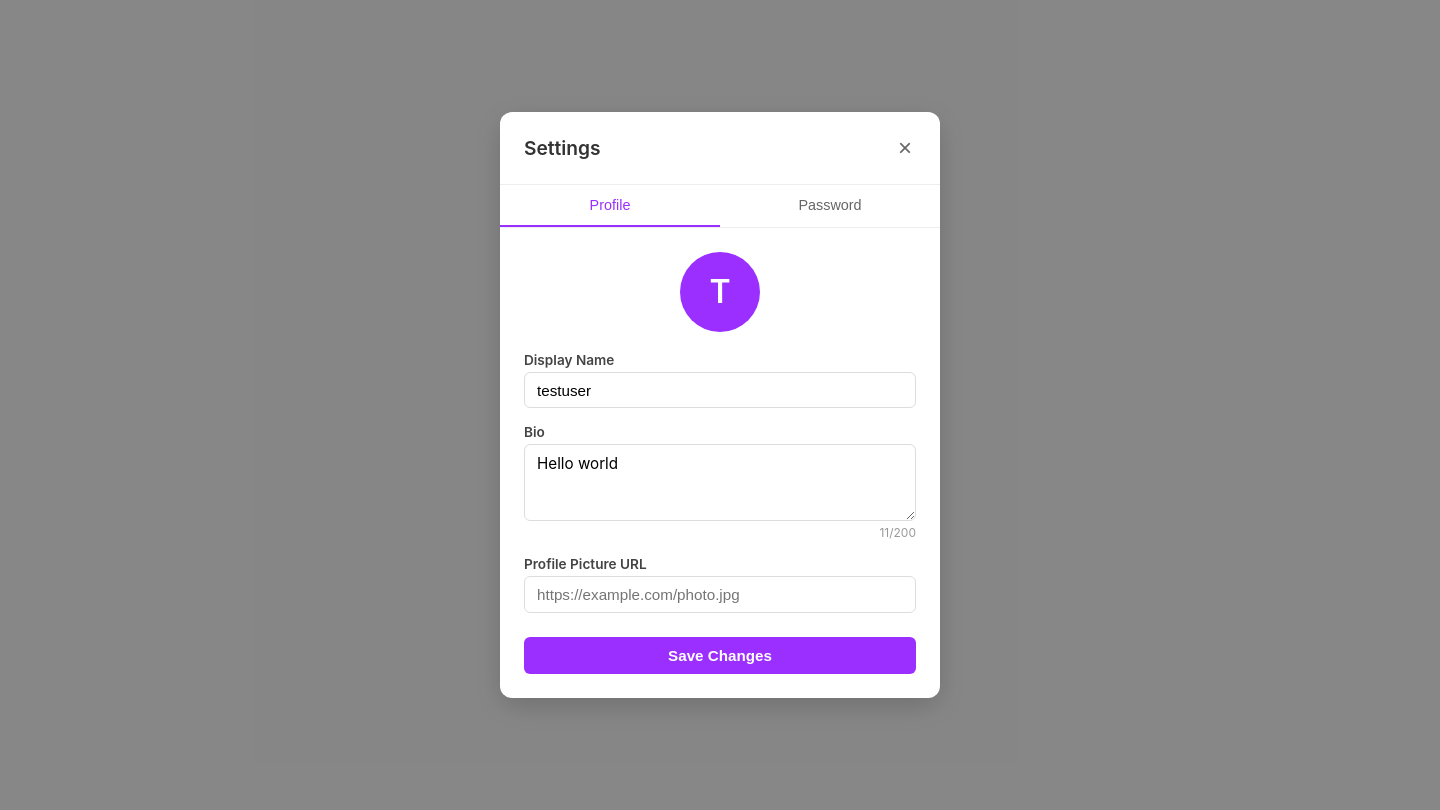
ProfileSettings Component › shows error when new passwords do not match
Click the button "Password".
click(830, 206)  # box x1=720 y1=185 x2=940 y2=227
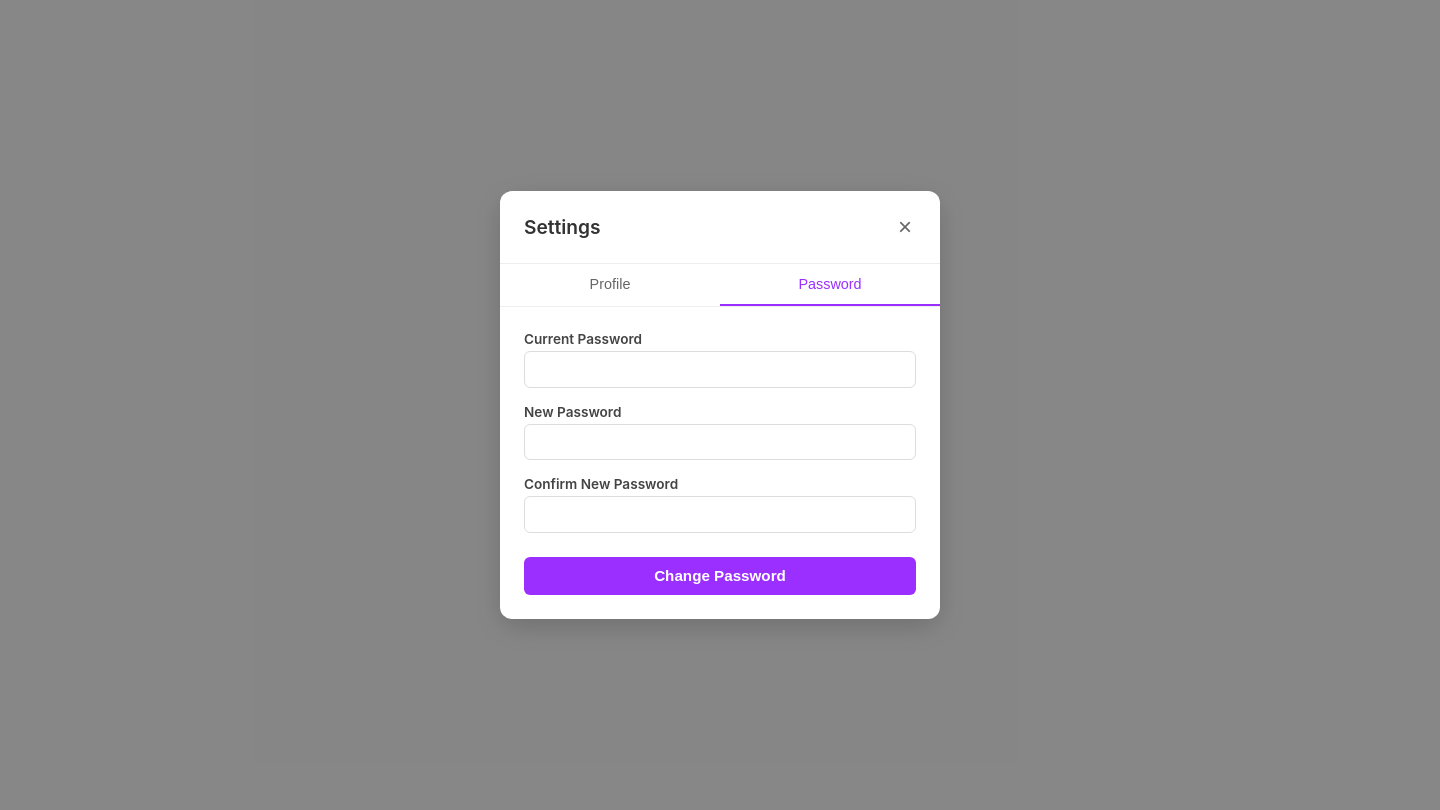
Type "oldpass" into the 1st password field.
click(720, 370); type("oldpass")  # box x1=524 y1=351 x2=916 y2=388
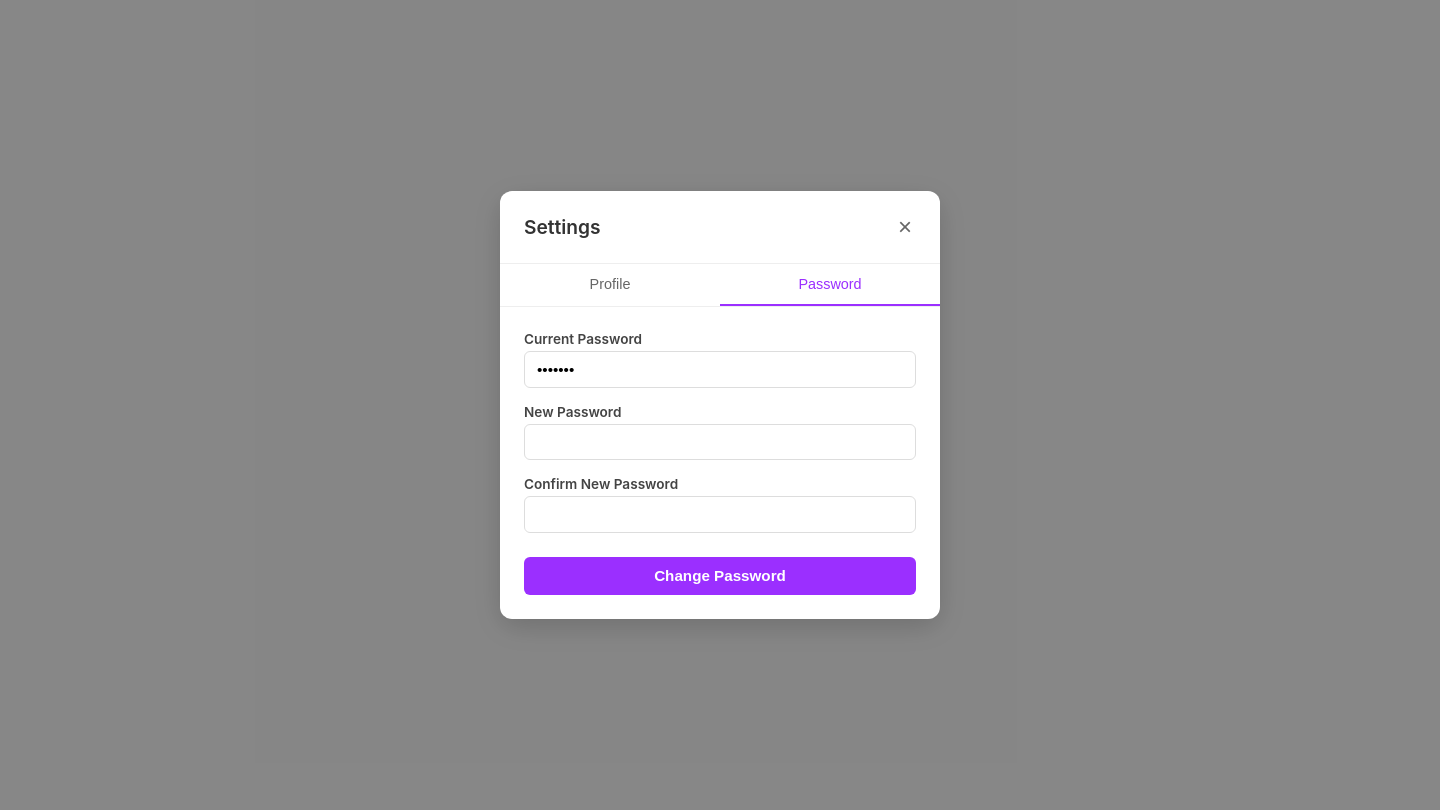
Type "newpass1" into the 2nd password field.
click(720, 442); type("newpass1")  # box x1=524 y1=424 x2=916 y2=460
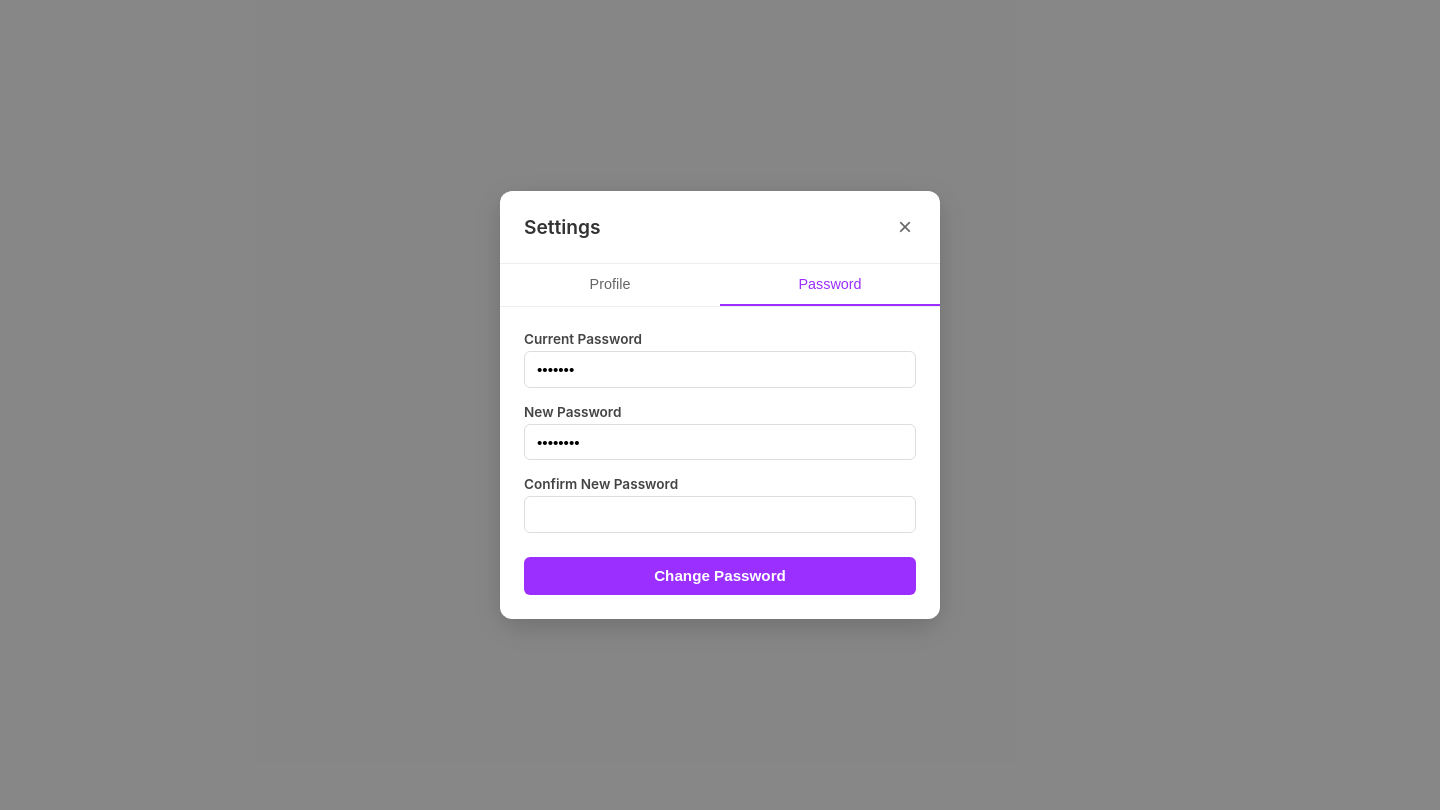
Type "newpass2" into the 3rd password field.
click(720, 515); type("newpass2")  # box x1=524 y1=496 x2=916 y2=533
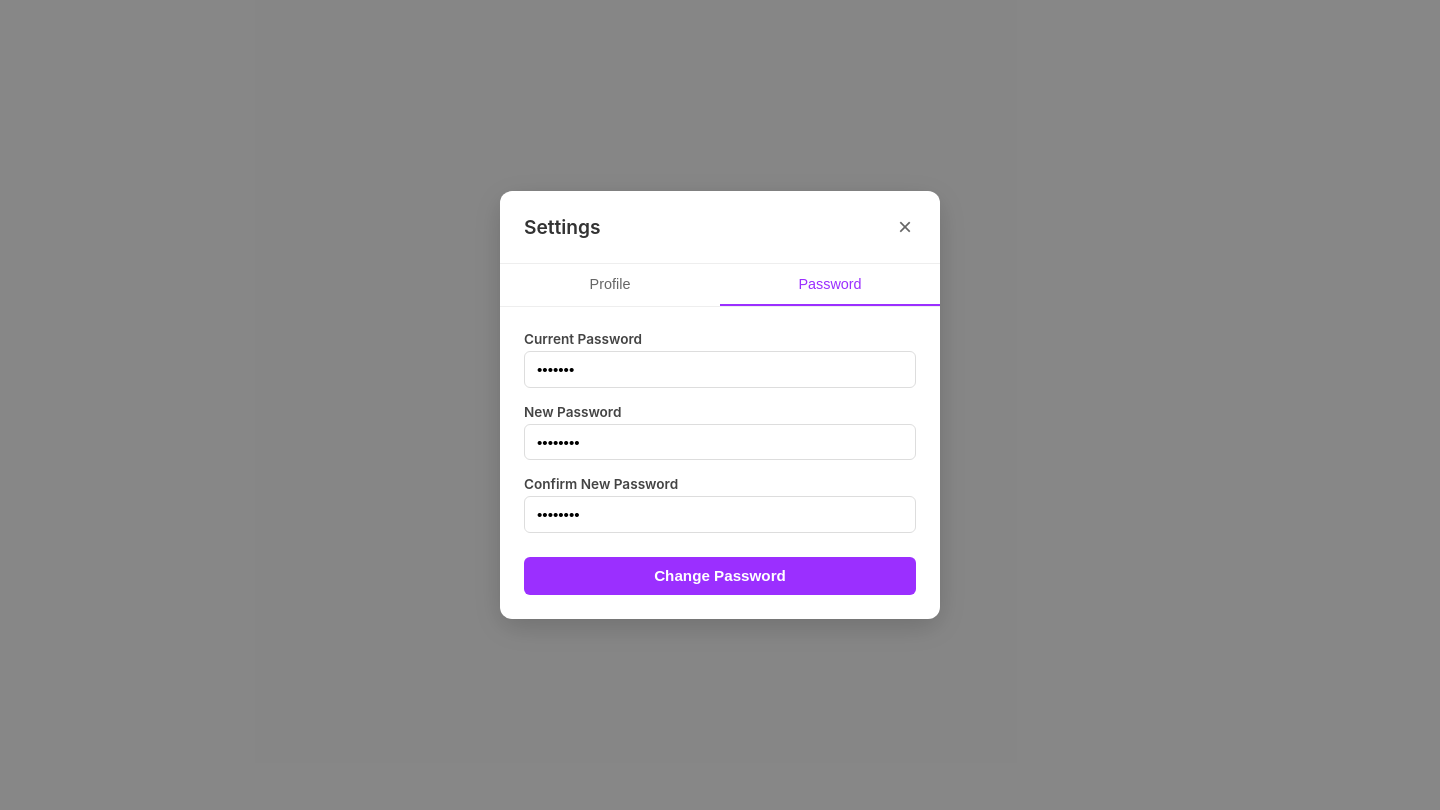
Click the button "Change Password".
click(720, 576)  # box x1=524 y1=557 x2=916 y2=595
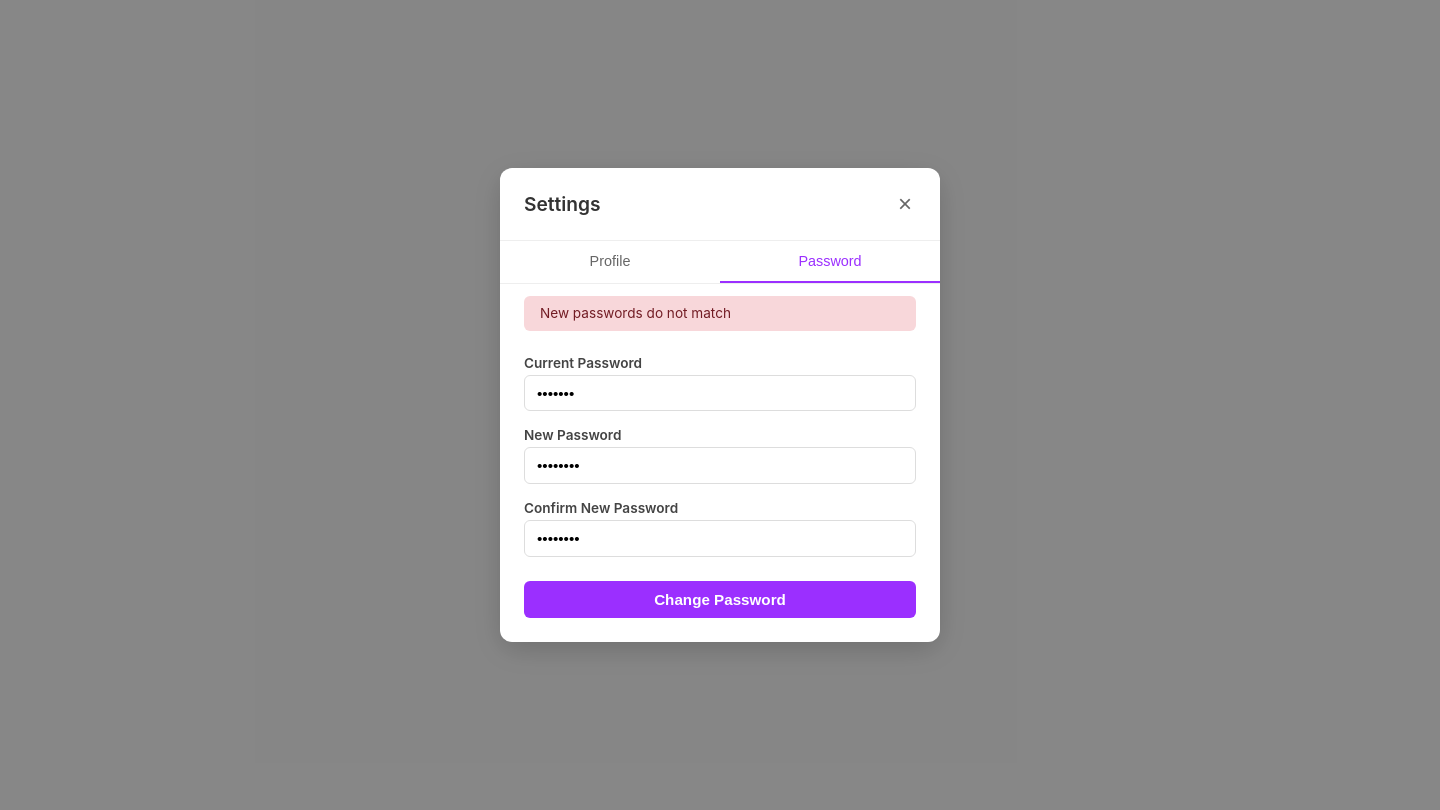
Expected: the text "New passwords do not match" is shown, x1=524 y1=296 x2=916 y2=331
